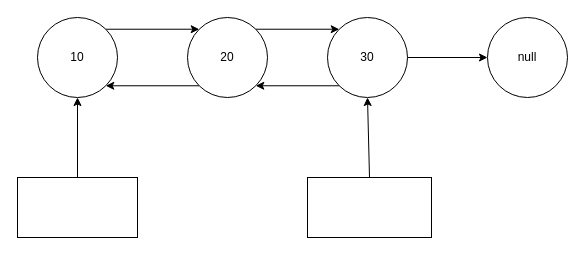
Image size: 585x255. Some labels were removed from this diagram. Here are the shapes that lost their labels. From the top down, the box of each, then its label:
(16, 176, 138, 238): head
(306, 176, 432, 238): tail
